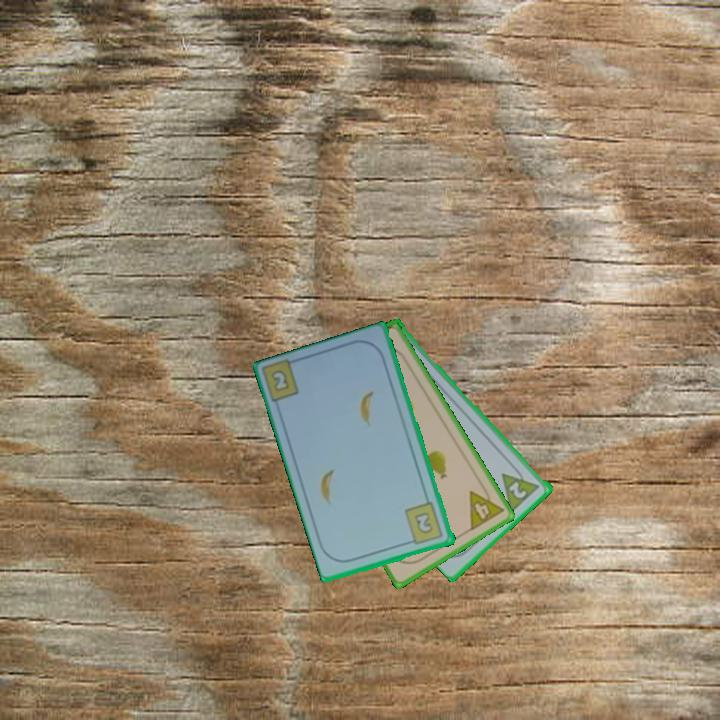2b: (402, 499, 446, 548), (270, 366, 293, 395)
2p: (498, 461, 543, 514)
4p: (466, 481, 507, 534)
